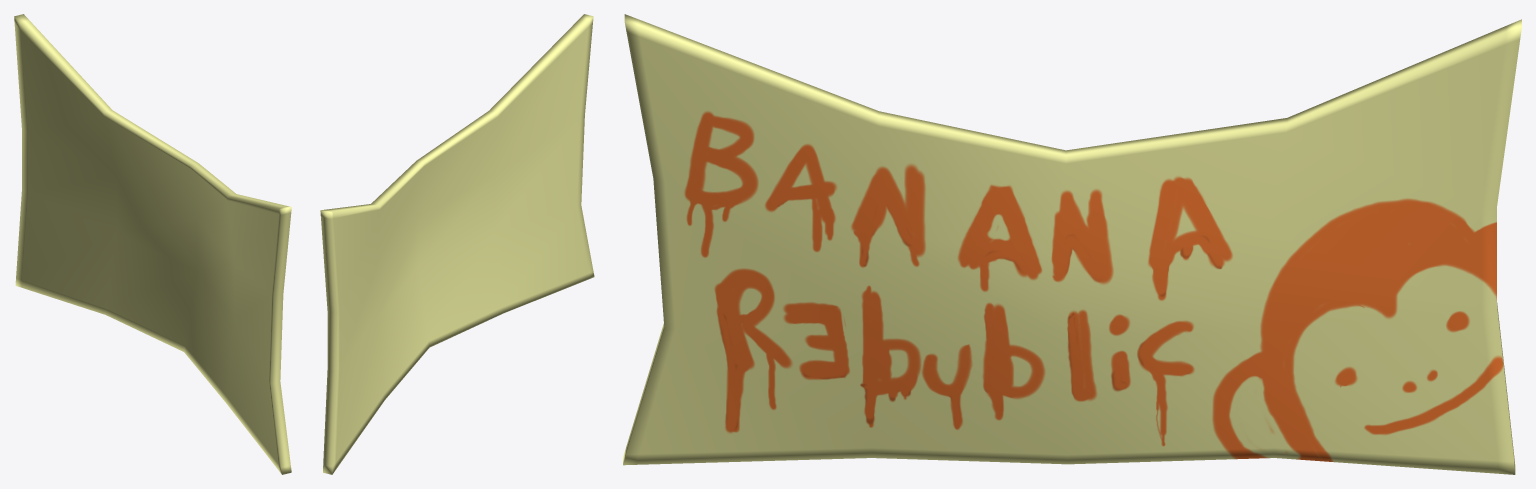
File: Tarp.fbx
3 views of the same model, side by side, from view 1: azimuth 30°, elevation 25°; view 2: azimuth 150°, elevation 25°; view 3: azimuth 270°, elevation 25° (orthographic). The views are drawn at different scales.
Parts seen in each view (by area): view 1: Tarp; view 2: Tarp; view 3: Tarp.
Part boxes in pixels (<box>): Tarp: <box>14,14,291,474</box>; Tarp: <box>320,14,594,474</box>; Tarp: <box>623,14,1521,474</box>.
Bounding box in the file's own units: 92.3 × 435 × 781.
1 material, 1 textured.
